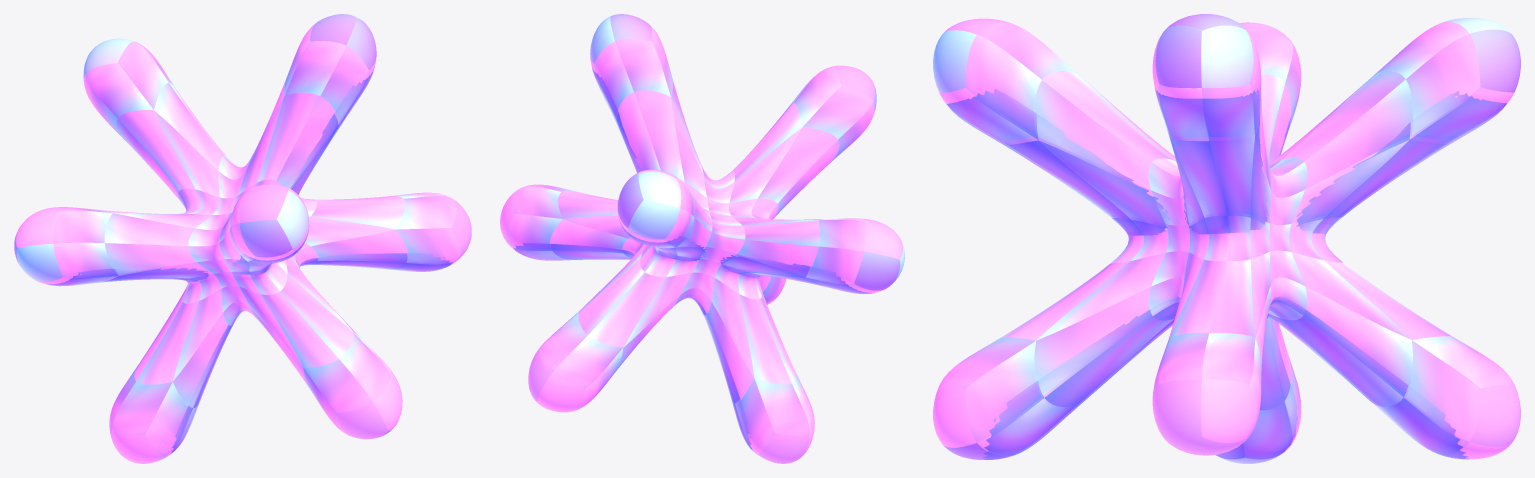
The model's file is thorns.glb.
3 renders of one model, left to right at view 1: azimuth 30°, elevation 25°; view 2: azimuth 150°, elevation 25°; view 3: azimuth 270°, elevation 25°, orthographic. The views are drawn at different scales.
Visible parts, largest first — view 1: Exploded_Mesh, Exploded_Mesh_4; view 2: Exploded_Mesh, Exploded_Mesh_4; view 3: Exploded_Mesh, Exploded_Mesh_4.
Part boxes in pixels (left/top/right/bottom): Exploded_Mesh: left=14, top=14, right=471, bottom=463; Exploded_Mesh_4: left=47, top=70, right=452, bottom=453; Exploded_Mesh: left=500, top=14, right=904, bottom=463; Exploded_Mesh_4: left=513, top=66, right=874, bottom=451; Exploded_Mesh: left=933, top=14, right=1520, bottom=463; Exploded_Mesh_4: left=947, top=88, right=1506, bottom=463.
Size of the model in its own units: 3.09 by 2.78 by 2.62.
Materials: 2 (2 with a texture image).
